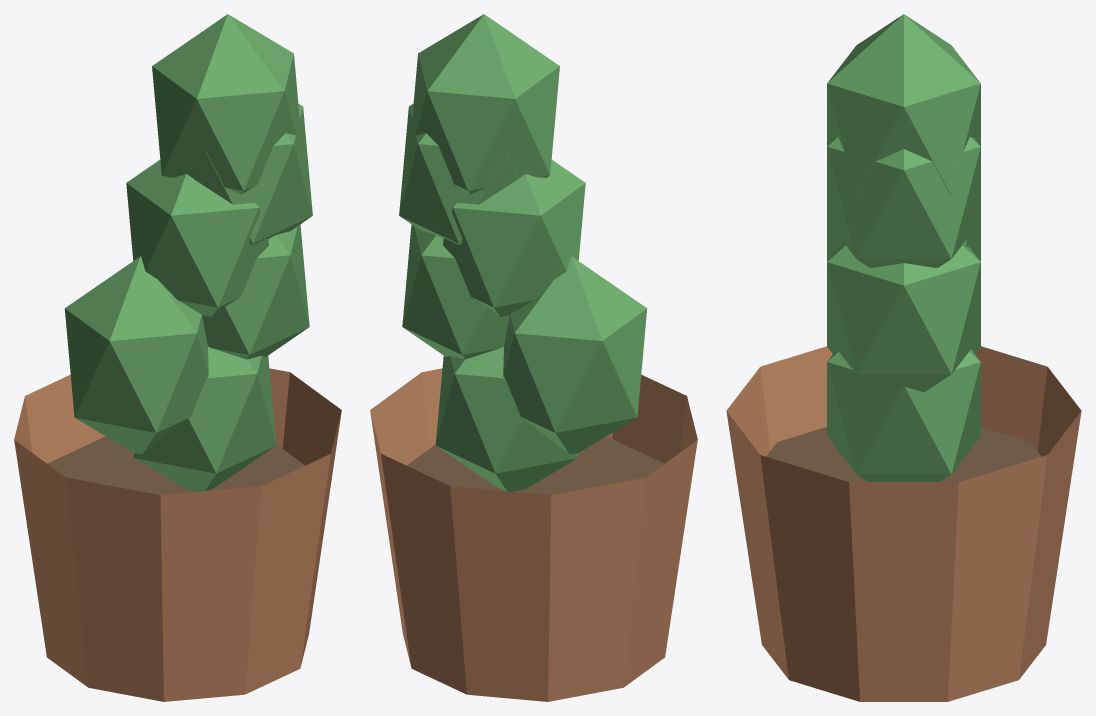
The model's file is shelf_cactus.glb.
The picture shows the model from 3 angles, left to right: view 1: azimuth 30°, elevation 25°; view 2: azimuth 150°, elevation 25°; view 3: azimuth 270°, elevation 25°; orthographic projection. The views are drawn at different scales.
Visible parts, largest first — view 1: shelf_cactus; view 2: shelf_cactus; view 3: shelf_cactus.
Boxes of the visible parts, x1,y1,x2,y2 form: shelf_cactus: (14, 14, 341, 701); shelf_cactus: (370, 14, 697, 701); shelf_cactus: (726, 14, 1081, 701).
Bounding box in the file's own units: 0.1308 × 0.2805 × 0.1375.
